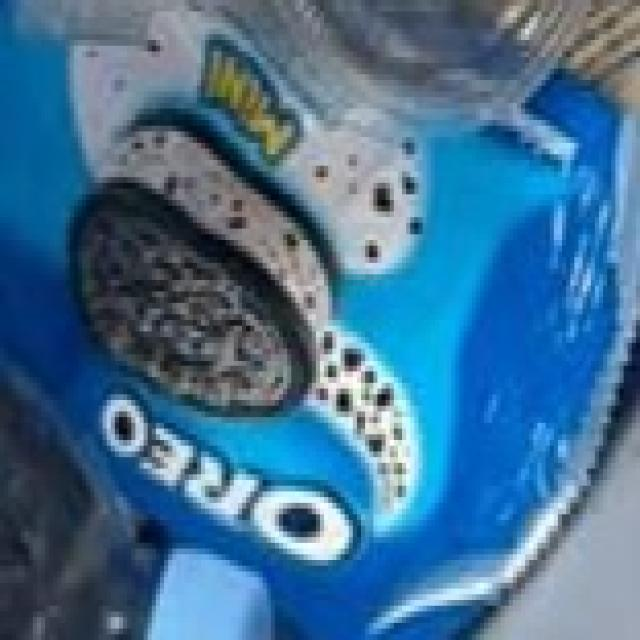plastic bag: (2, 0, 640, 634)
